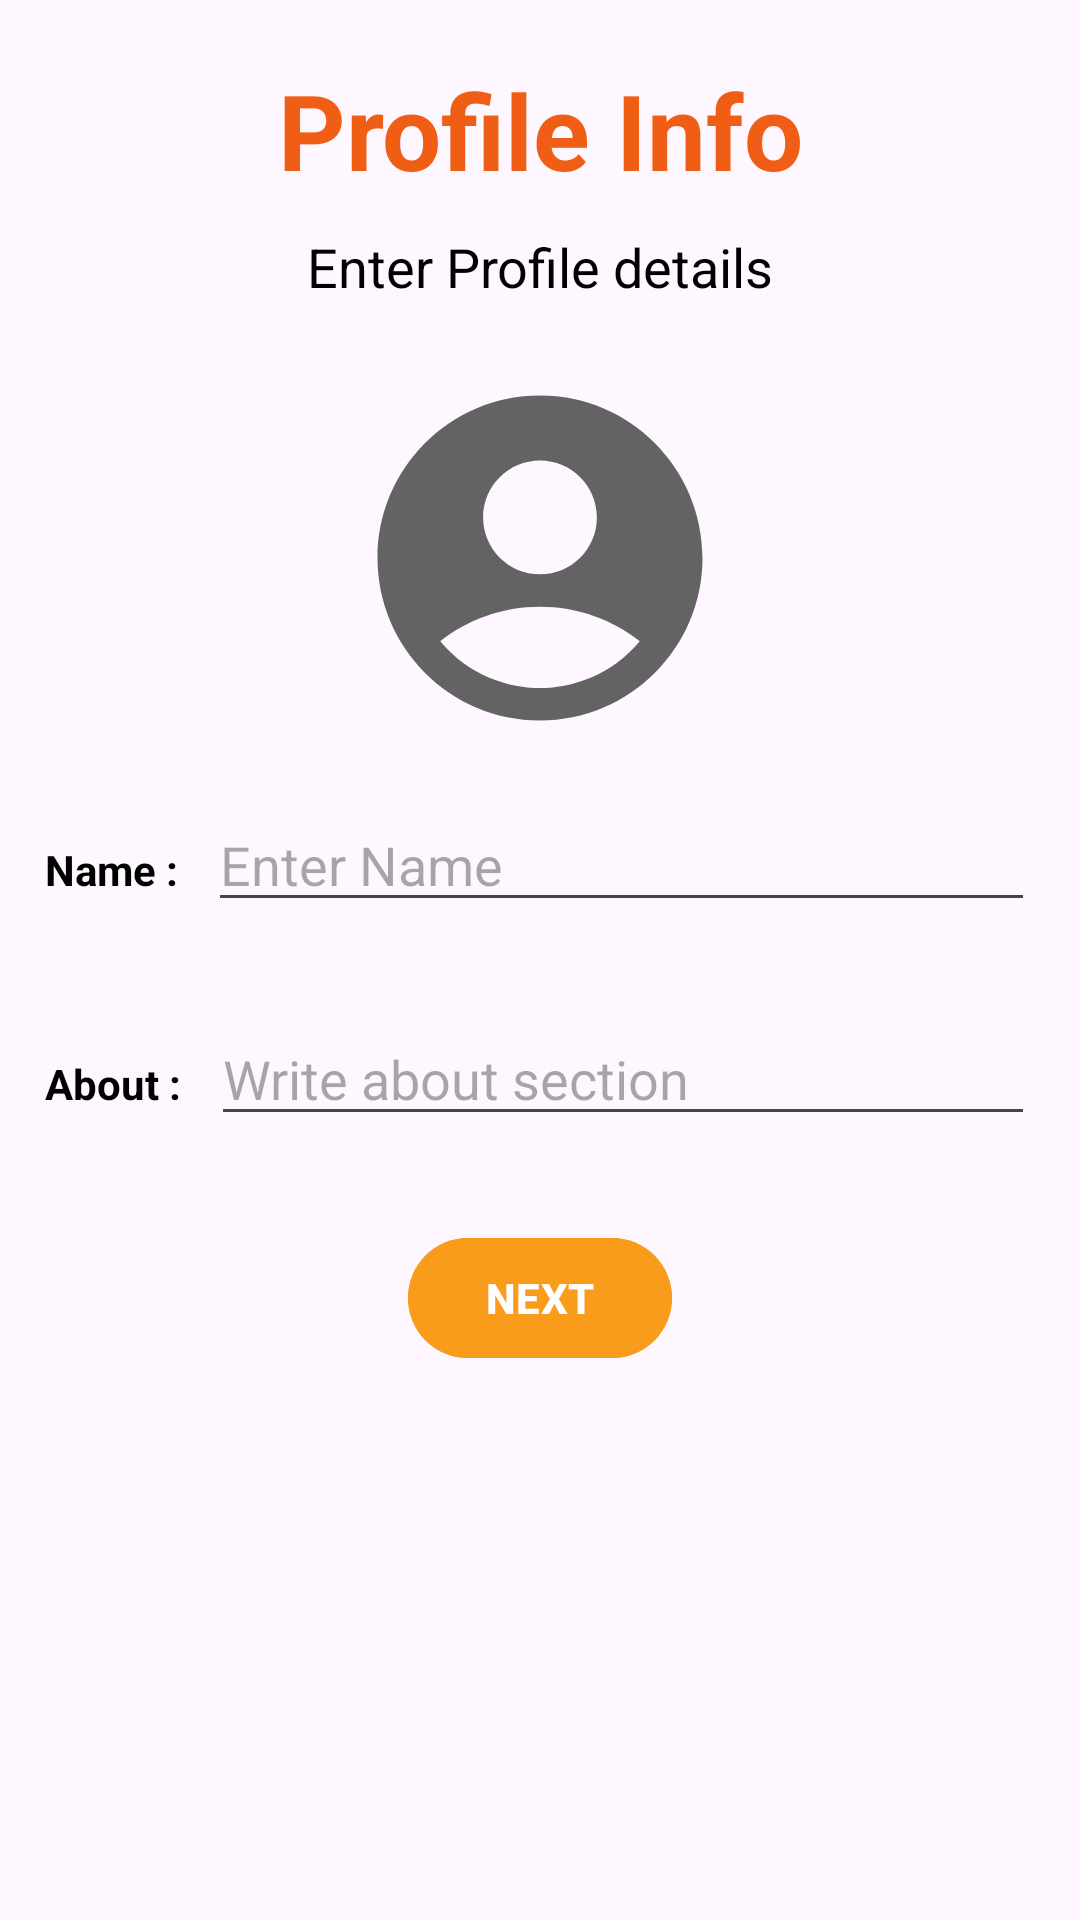

Point at icon controls on the screen. Image size 1080px x 1920px, points as point (x, y).
account circle: point (540, 558)
